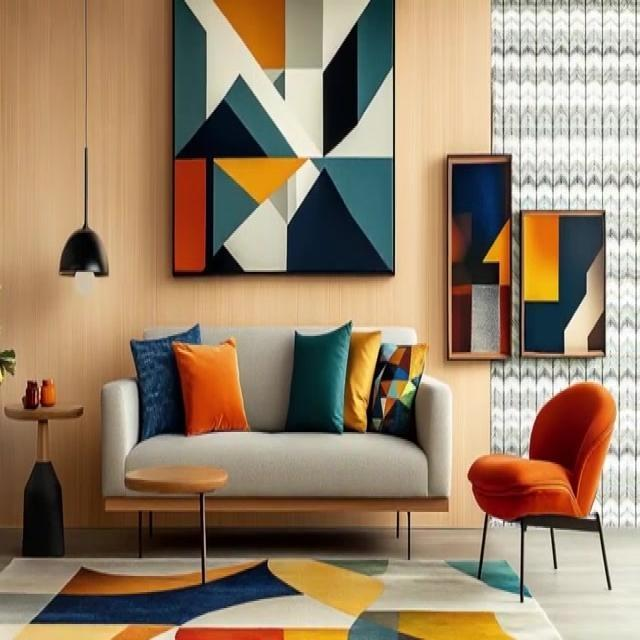obstacle: (100, 320, 452, 558), (467, 380, 616, 602), (124, 464, 228, 585), (4, 399, 83, 556)
